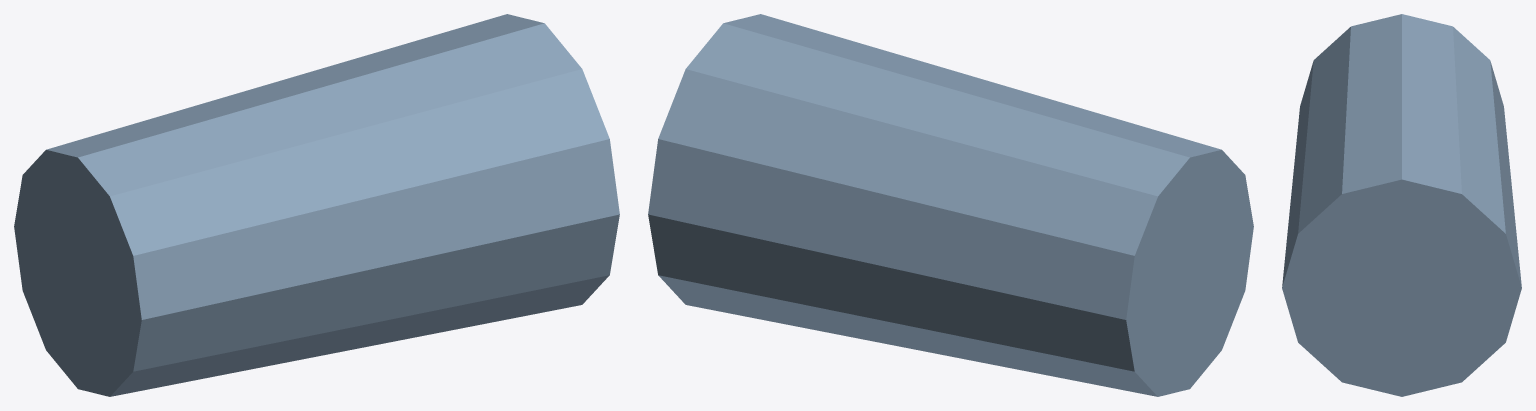
File: bone_8.obj
The picture shows the model from 3 angles, left to right: view 1: azimuth 30°, elevation 25°; view 2: azimuth 150°, elevation 25°; view 3: azimuth 270°, elevation 25°; orthographic projection. The views are drawn at different scales.
Parts seen in each view (by area): view 1: bone_8; view 2: bone_8; view 3: bone_8.
Part boxes in pixels (x1,y1,x2,y2): bone_8: (14,14,619,396); bone_8: (648,14,1253,396); bone_8: (1282,14,1521,396).
Bounding box in the file's own units: 0.0287 × 0.016 × 0.016.
